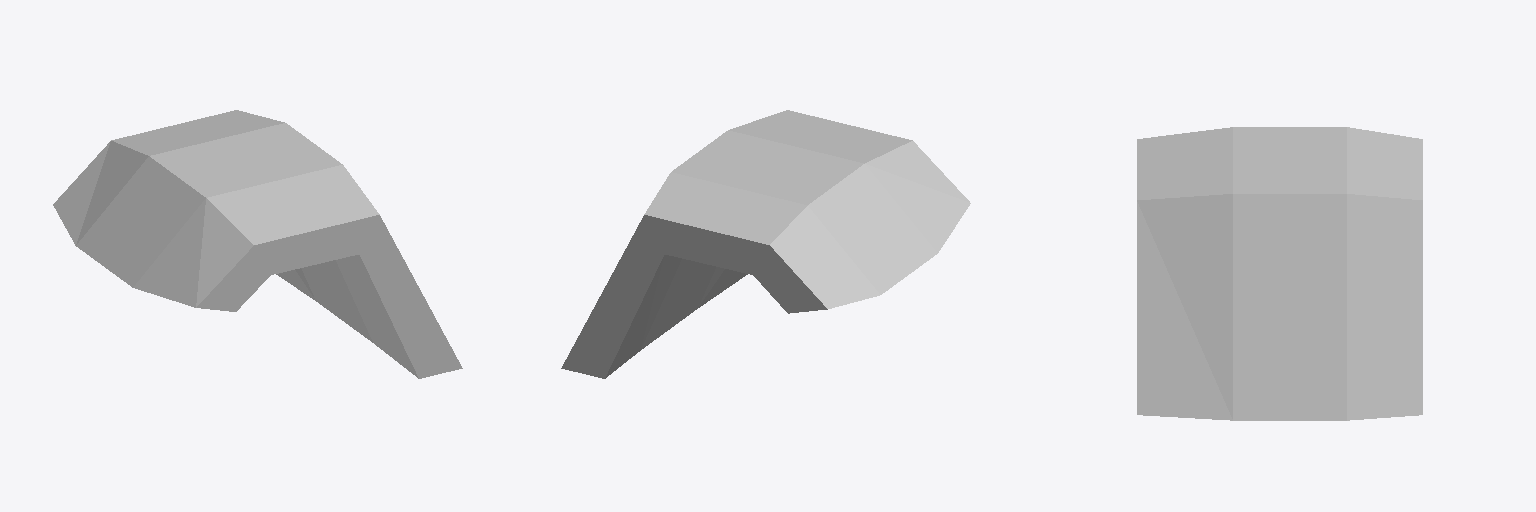
The model's file is FakeHand.obj.
3 views of the same model, side by side, from view 1: azimuth 30°, elevation 25°; view 2: azimuth 150°, elevation 25°; view 3: azimuth 270°, elevation 25° (orthographic).
Visible parts, largest first — view 1: FakeHand; view 2: FakeHand; view 3: FakeHand.
Part boxes in pixels (x1,y1,x2,y2): FakeHand: (53, 110, 462, 378); FakeHand: (561, 110, 970, 378); FakeHand: (1137, 127, 1422, 420).
Size of the model in its own units: 6.82 by 4.14 by 5.77.